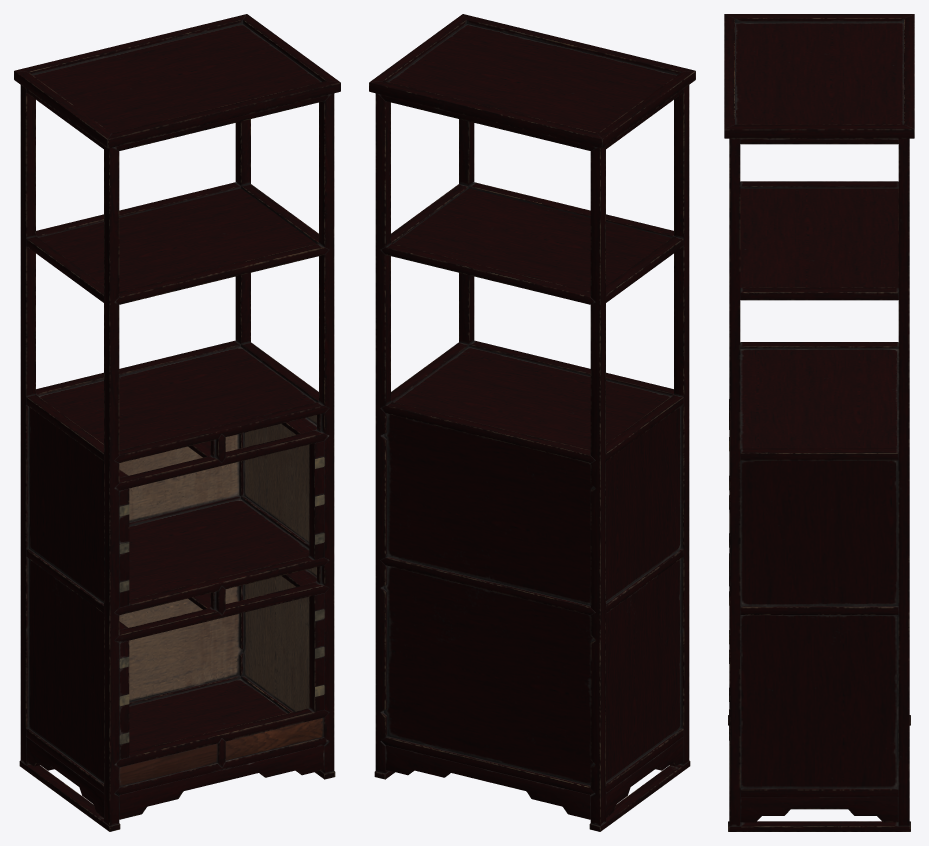
Rendered from SM_Cabinet240_body.fbx.
3 views of the same model, side by side, from view 1: azimuth 30°, elevation 25°; view 2: azimuth 150°, elevation 25°; view 3: azimuth 270°, elevation 25° (orthographic).
Parts seen in each view (by area): view 1: SM_Cabinet240_body; view 2: SM_Cabinet240_body; view 3: SM_Cabinet240_body.
Part boxes in pixels (left/top/right/bottom): SM_Cabinet240_body: left=14, top=14, right=340, bottom=831; SM_Cabinet240_body: left=369, top=14, right=695, bottom=831; SM_Cabinet240_body: left=724, top=14, right=914, bottom=831.
Bounding box in the file's own units: 60.7 × 173 × 42.3.
1 material, 1 textured.
